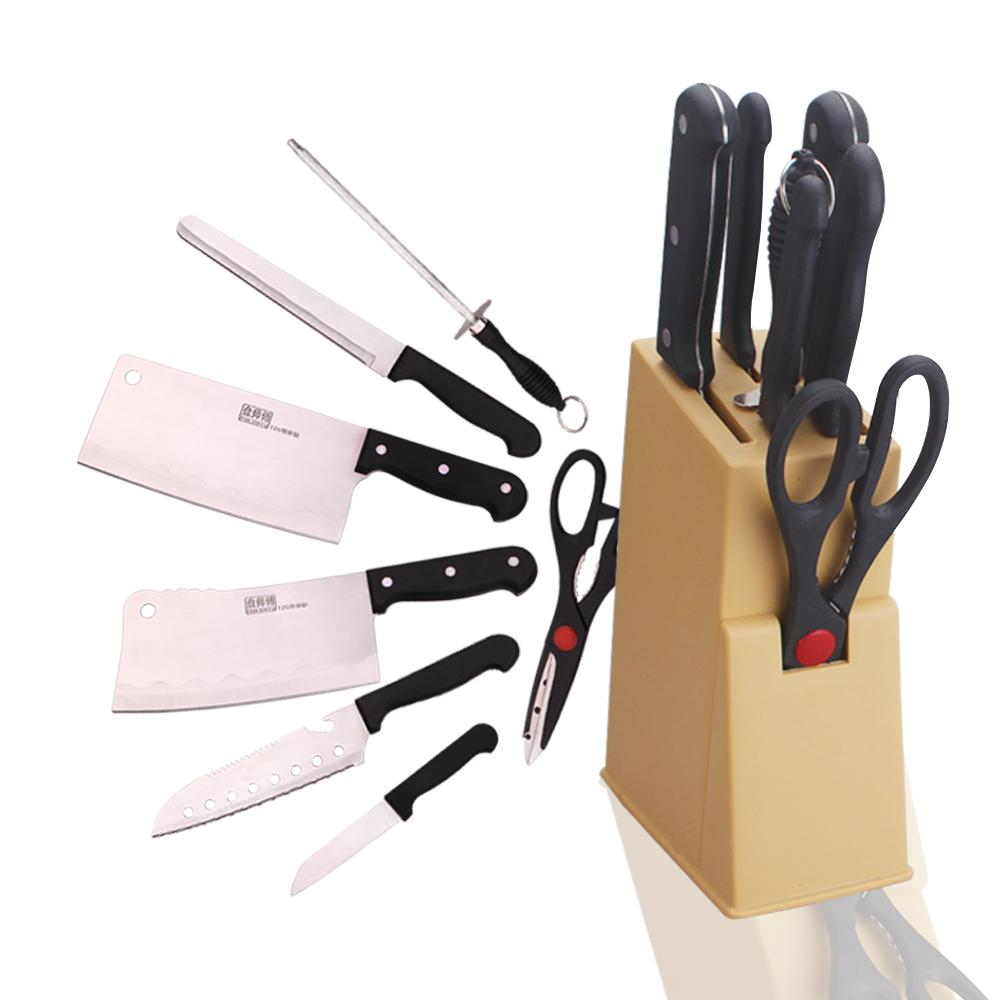knife: (102, 93, 496, 951)
